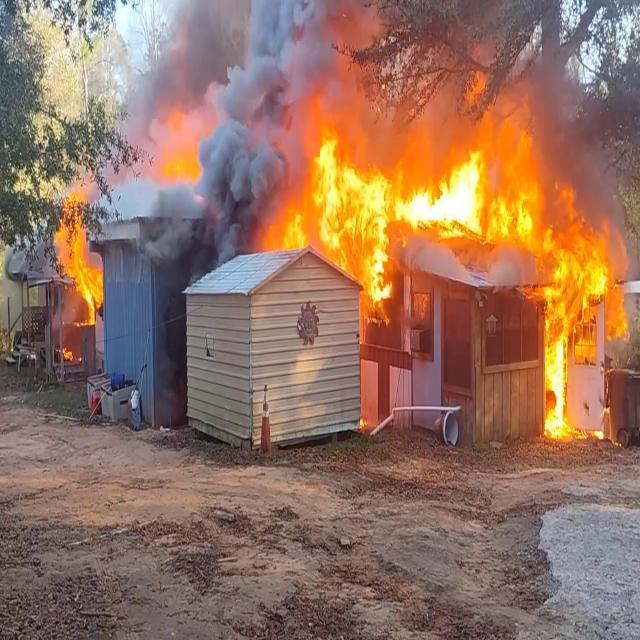Fire: (258, 111, 544, 302), (528, 200, 632, 440), (52, 181, 106, 324), (142, 100, 214, 190)
